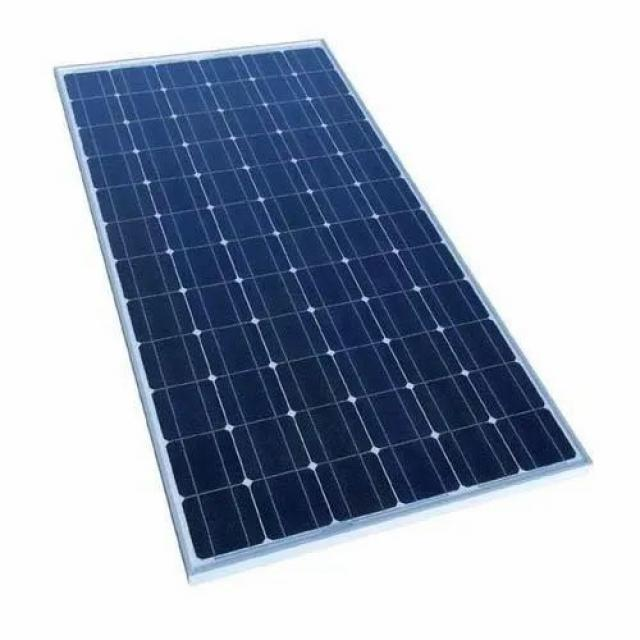no faulty: (56, 38, 582, 576)
